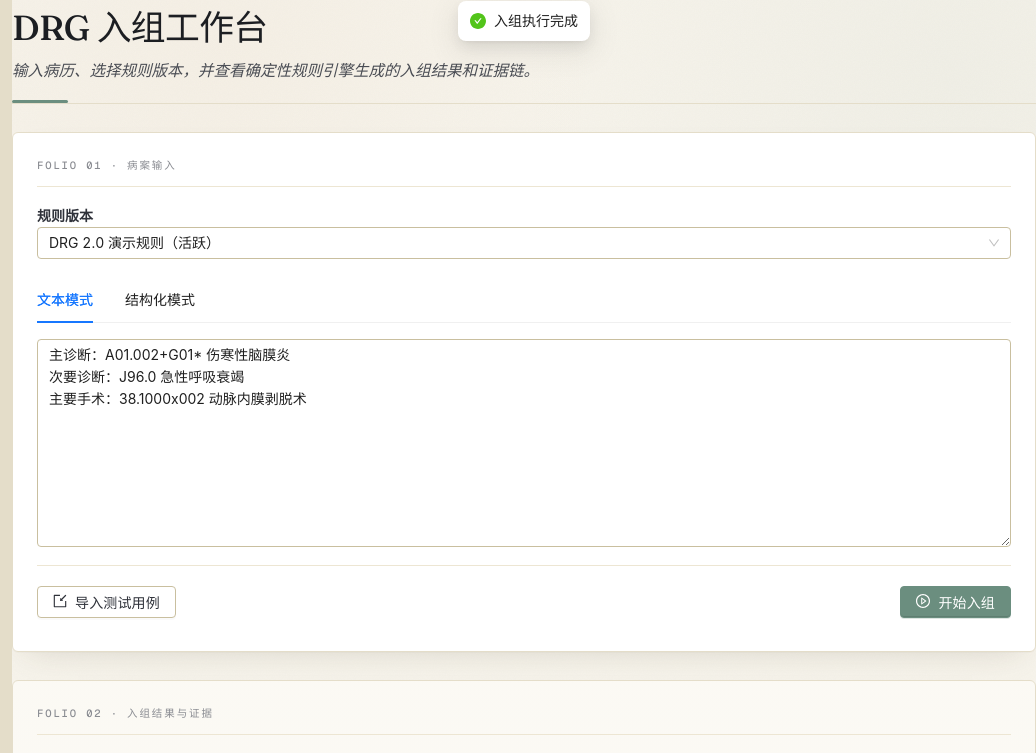
Test: DRGGrouping › shows review and result download actions after grouping
The width and height of the screenshot is (1036, 753).
Expected: the text "DRG 2.0 演示规则（活跃）" is shown, x1=49 y1=234 x2=220 y2=251
What coordinates should you click on to do the following:
click the button "开始入组"
I would click on:
 (956, 602)
Its box is x1=900 y1=586 x2=1011 y2=618.
(page scrolled)
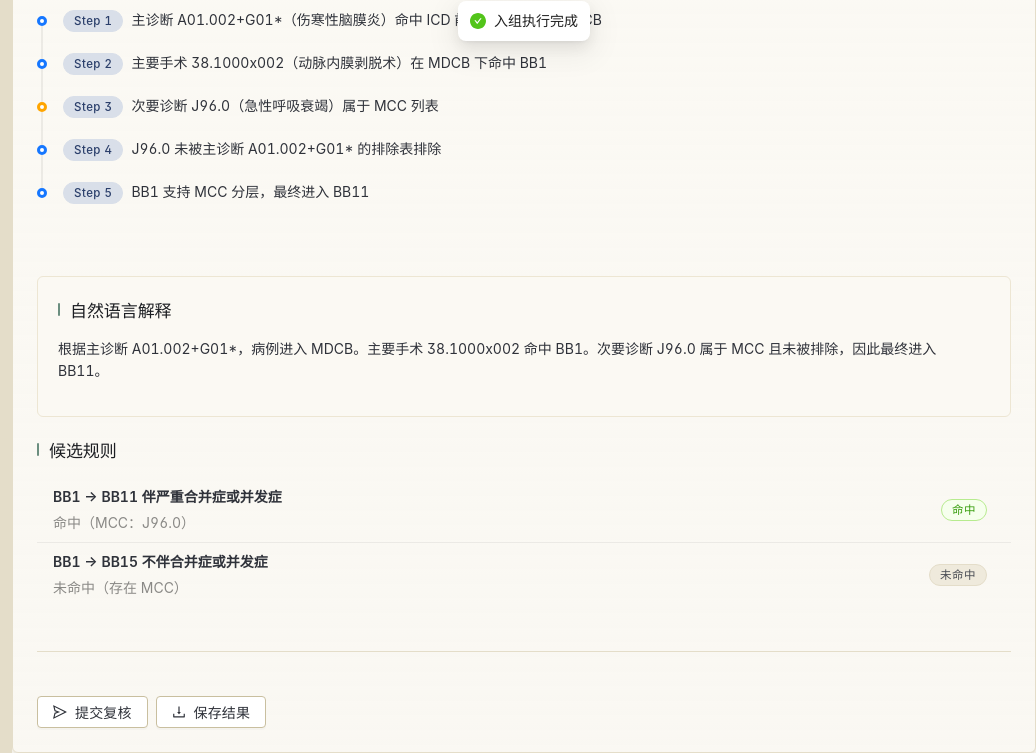
Expected: the button "保存结果" is shown, x1=156 y1=696 x2=266 y2=728
Expected: the button "提交复核" is shown, x1=37 y1=696 x2=148 y2=728
